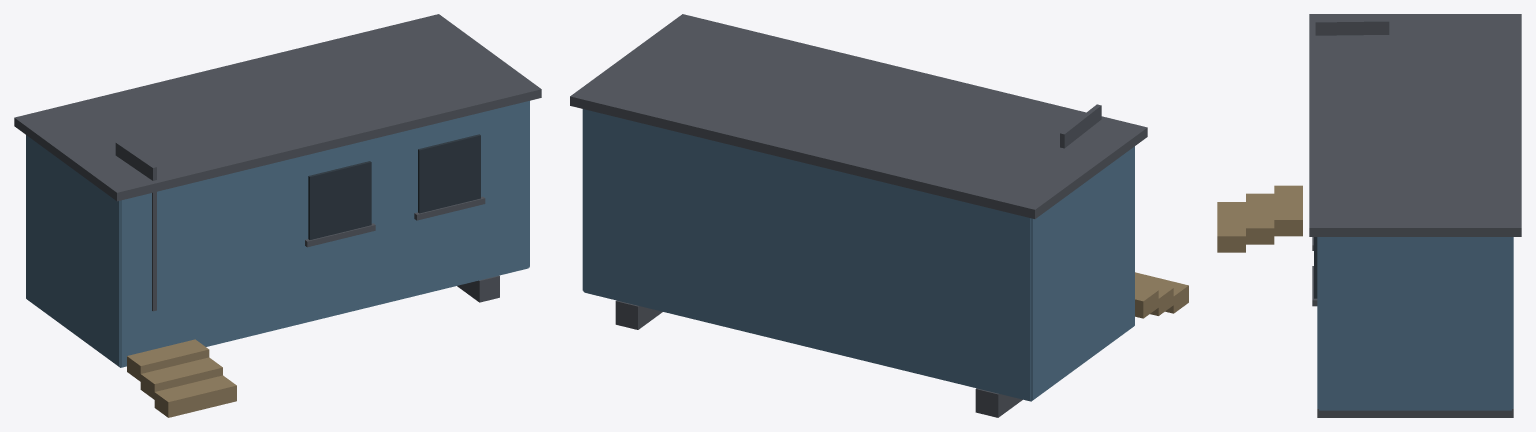
The model's file is site_trailer.glb.
The picture shows the model from 3 angles, left to right: view 1: azimuth 30°, elevation 25°; view 2: azimuth 150°, elevation 25°; view 3: azimuth 270°, elevation 25°; orthographic projection. The views are drawn at different scales.
Visible parts, largest first — view 1: cabin, roof, window, window.001, step.002, step.001, step, door_leaf, skid.001, sill.001, sill; view 2: cabin, roof, skid, skid.001, door_leaf, step.002, step, step.001; view 3: roof, cabin, skid.001, step, step.001, step.002, door_leaf.
Part boxes in pixels (box(x1,y1,x2,y2)): cabin: box(26, 101, 529, 367); roof: box(14, 14, 541, 201); window: box(308, 161, 371, 239); window.001: box(418, 134, 480, 213); step.002: box(154, 375, 236, 417); step.001: box(140, 357, 222, 399); step: box(127, 339, 209, 381); door_leaf: box(115, 141, 156, 311); skid.001: box(457, 275, 499, 302); sill.001: box(414, 196, 485, 220); sill: box(305, 223, 375, 247); cabin: box(582, 109, 1134, 401); roof: box(570, 14, 1147, 218); skid: box(975, 388, 1022, 417); skid.001: box(615, 300, 662, 329); door_leaf: box(1060, 104, 1101, 148); step.002: box(1135, 272, 1188, 313); step: box(1135, 284, 1158, 318); step.001: box(1135, 278, 1173, 315); roof: box(1309, 14, 1521, 236); cabin: box(1317, 237, 1513, 410); skid.001: box(1317, 409, 1513, 417); step: box(1274, 185, 1302, 236); step.001: box(1246, 193, 1274, 244); step.002: box(1217, 202, 1245, 252); door_leaf: box(1315, 19, 1389, 35).
Size of what is drawn, in the model's own units: 6.2 by 3 by 3.72.
